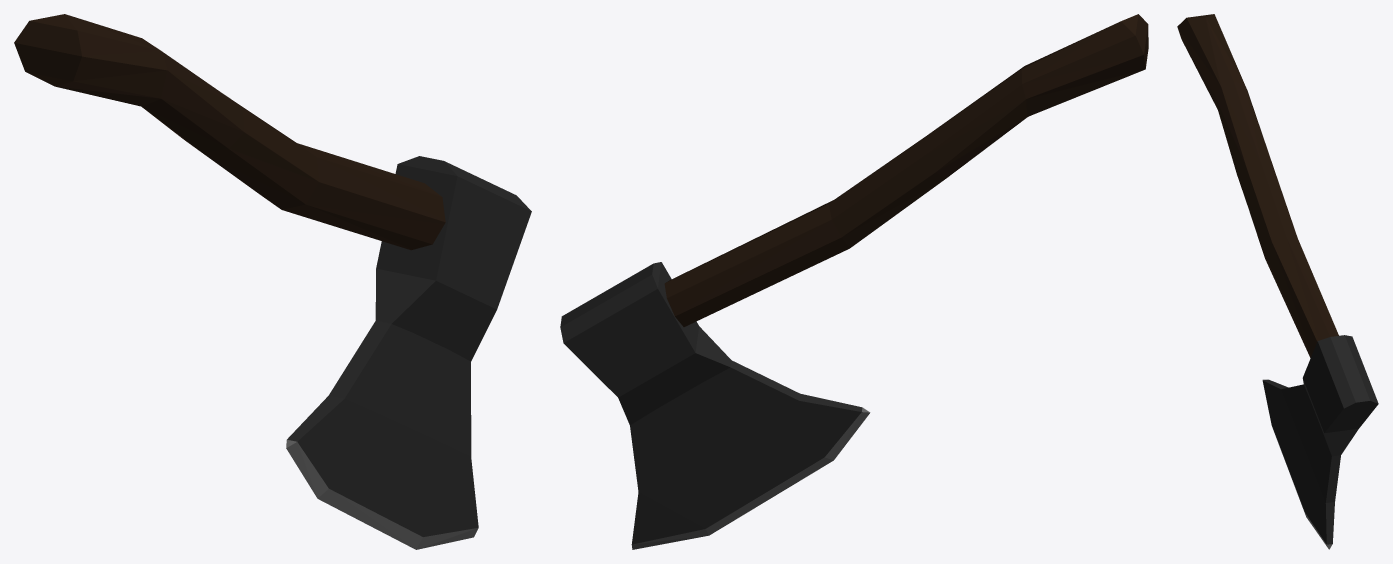
File: Axe_Small.fbx
The picture shows the model from 3 angles, left to right: view 1: azimuth 30°, elevation 25°; view 2: azimuth 150°, elevation 25°; view 3: azimuth 270°, elevation 25°; orthographic projection. The views are drawn at different scales.
Parts seen in each view (by area): view 1: Axe_Small; view 2: Axe_Small; view 3: Axe_Small.
Part boxes in pixels (bbox=[...]): Axe_Small: bbox=[14, 14, 531, 549]; Axe_Small: bbox=[560, 14, 1148, 549]; Axe_Small: bbox=[1177, 14, 1378, 549].
Size of the model in its own units: 177 by 90.38 by 195.
